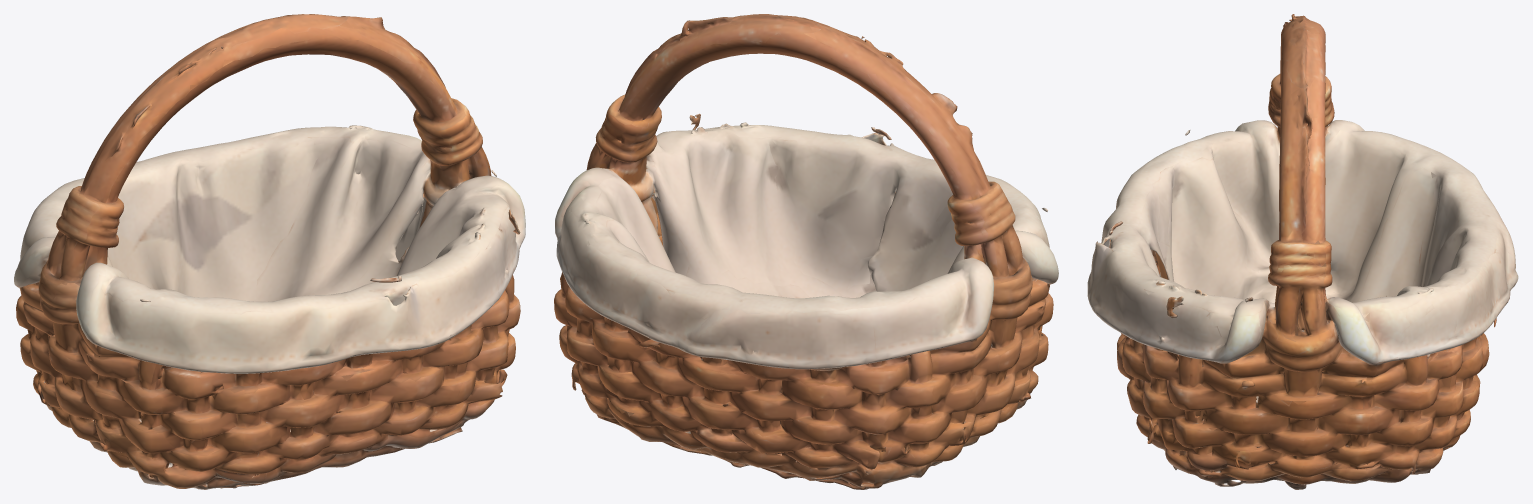
Rendered from A4_面包篮_v2.glb.
3 renders of one model, left to right at view 1: azimuth 30°, elevation 25°; view 2: azimuth 150°, elevation 25°; view 3: azimuth 270°, elevation 25°, orthographic. The views are drawn at different scales.
Parts seen in each view (by area): view 1: A4_body; view 2: A4_body; view 3: A4_body.
Part boxes in pixels (bbox=[...]): A4_body: bbox=[14, 14, 525, 489]; A4_body: bbox=[554, 14, 1058, 489]; A4_body: bbox=[1087, 14, 1518, 489].
Size of the model in its own units: 0.5163 by 0.44 by 0.4492.
1 material, 1 textured.
